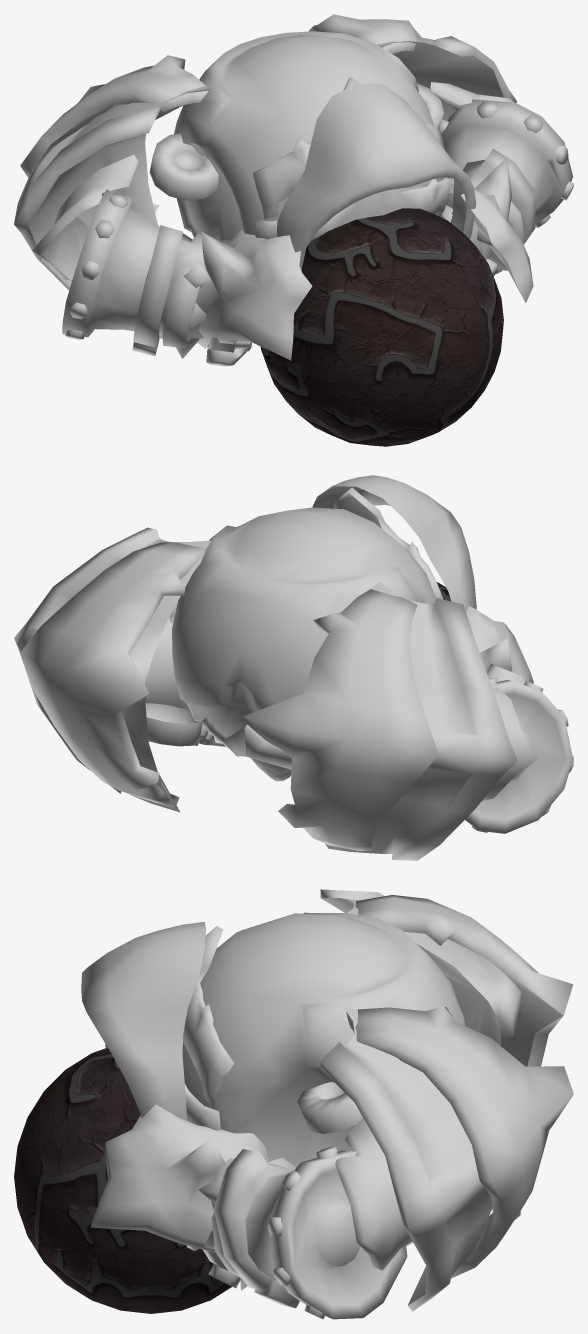
Rendered from Born (20).obj.
The picture shows the model from 3 angles, top to bottom: view 1: azimuth 30°, elevation 25°; view 2: azimuth 150°, elevation 25°; view 3: azimuth 270°, elevation 25°; orthographic projection. The views are drawn at different scales.
Visible parts, largest first — view 1: ironreaver01; view 2: ironreaver01; view 3: ironreaver01.
Boxes of the visible parts, <box> form: ironreaver01: <box>14,14,573,446</box>; ironreaver01: <box>14,475,573,860</box>; ironreaver01: <box>14,889,573,1319</box>.
Size of the model in its own units: 1.55 by 0.9853 by 1.33.
